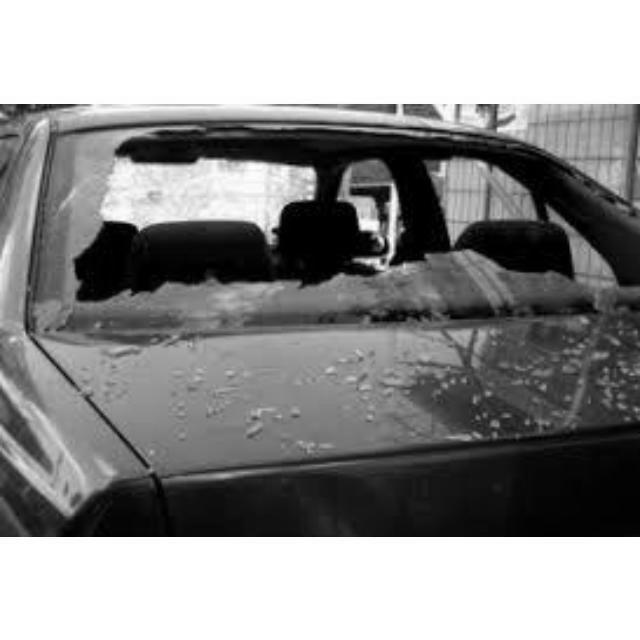Rear-windscreen-Damage: (13, 110, 638, 386)
